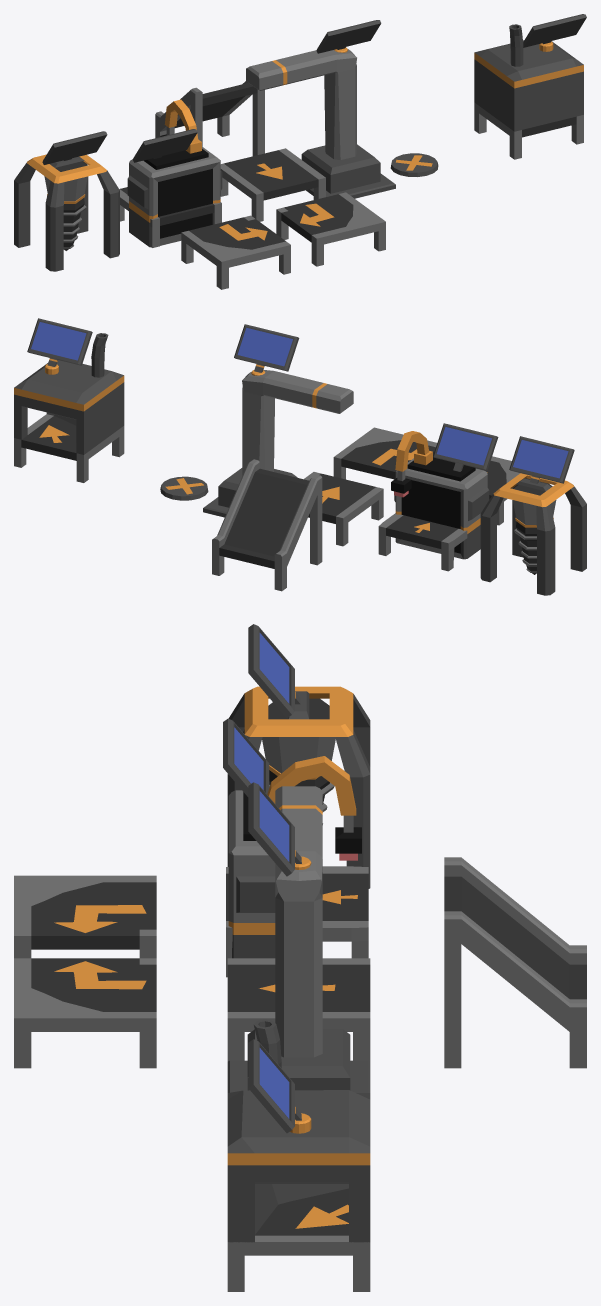
File: conveyor.fbx
3 views of the same model, one above another, from view 1: azimuth 30°, elevation 25°; view 2: azimuth 150°, elevation 25°; view 3: azimuth 270°, elevation 25° (orthographic). The views are drawn at different scales.
Parts seen in each view (by area): view 1: Cube.004, Cube.011, Cube.009, Cube.007, Cube.003, Cube.001, Cube, Cube.006, Cube.002, Cube.012, Cone, Cube.005 (+3 smaller); view 2: Cube.004, Cube.002, Cube.011, Cube.009, Cube.007, Cube.012, Cube, Cube.001, Cube.005, Cube.013, Cube.008, Cube.010 (+3 smaller); view 3: Cube.011, Cube.002, Cube.001, Cube.004, Cube.007, Cube.003, Cube.009, Cube, Cube.012, Cube.006, Cube.005, Cube.013 (+3 smaller).
Part boxes in pixels (box(x1,y1,x2,y2)): Cube.004: box(127, 99, 222, 247); Cube.011: box(474, 24, 583, 131); Cube.009: box(14, 154, 119, 271); Cube.007: box(246, 49, 356, 159); Cube.003: box(181, 215, 290, 289); Cube.001: box(276, 192, 385, 266); Cube: box(220, 148, 325, 221); Cube.006: box(301, 144, 438, 198); Cube.002: box(155, 81, 264, 156); Cube.012: box(474, 102, 583, 159); Cone: box(44, 161, 87, 250); Cube.005: box(119, 187, 221, 247); Cube.004: box(391, 423, 498, 559); Cube.002: box(212, 459, 322, 591); Cube.011: box(14, 333, 124, 454); Cube.009: box(480, 473, 586, 595); Cube.007: box(242, 370, 353, 475); Cube.012: box(14, 414, 124, 482); Cube: box(304, 472, 383, 546); Cube.001: box(333, 427, 437, 479); Cube.005: box(378, 513, 467, 571); Cube.013: box(27, 318, 92, 374); Cube.008: box(234, 324, 299, 375); Cube.010: box(509, 436, 574, 483); Cube.011: box(227, 1019, 370, 1242); Cube.002: box(444, 857, 586, 1068); Cube.001: box(14, 958, 156, 1068); Cube.004: box(223, 718, 361, 958); Cube.007: box(275, 786, 322, 1057); Cube.003: box(14, 875, 156, 958); Cube.009: box(227, 686, 370, 888); Cube: box(227, 958, 370, 1061); Cube.012: box(227, 1188, 370, 1291); Cube.006: box(227, 1029, 370, 1092); Cube.005: box(226, 866, 368, 977); Cube.013: box(248, 1039, 311, 1133).
Bounding box in the file's own units: 1554 × 461 × 803.
